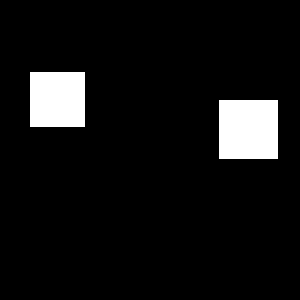circle: (219, 100, 278, 159), (30, 72, 85, 127)
